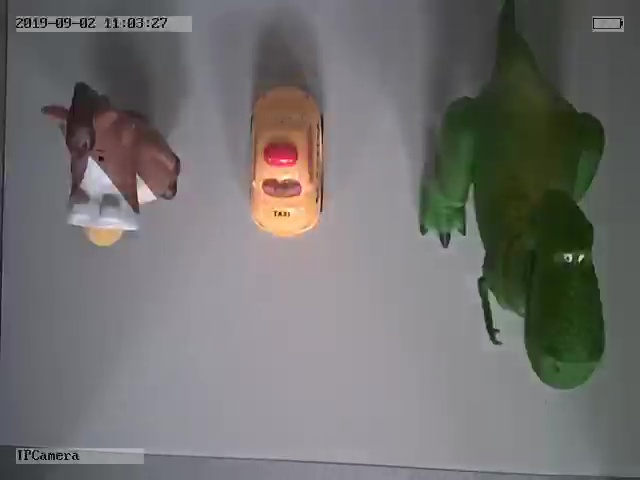car: (246, 82, 328, 237)
horse: (41, 83, 180, 247)
rex: (419, 15, 607, 390)
